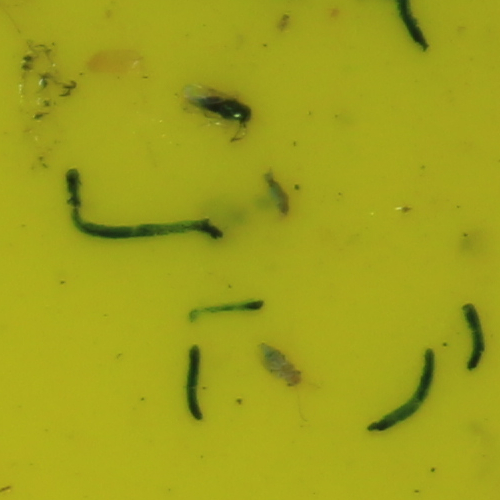Glycaspis: (257, 344, 305, 391)
Psyllaephagus: (186, 91, 252, 123)
